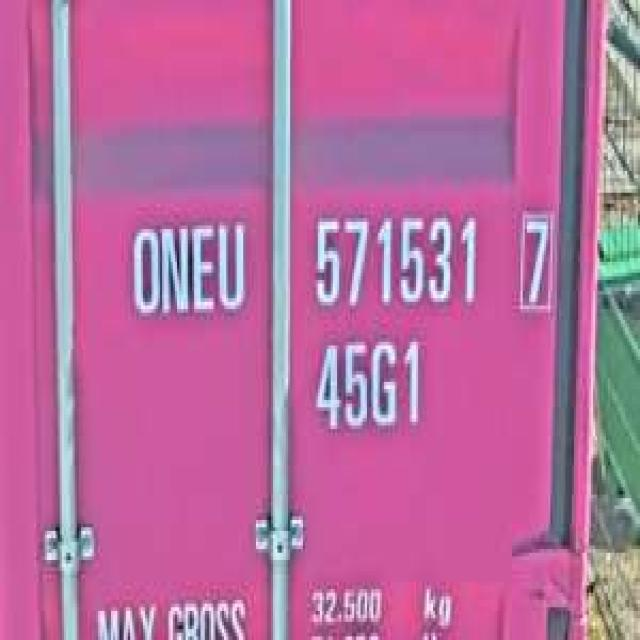dv: (516, 204, 555, 312)
owner: (124, 211, 252, 327)
serial: (308, 204, 487, 316)
size: (309, 331, 427, 440)
